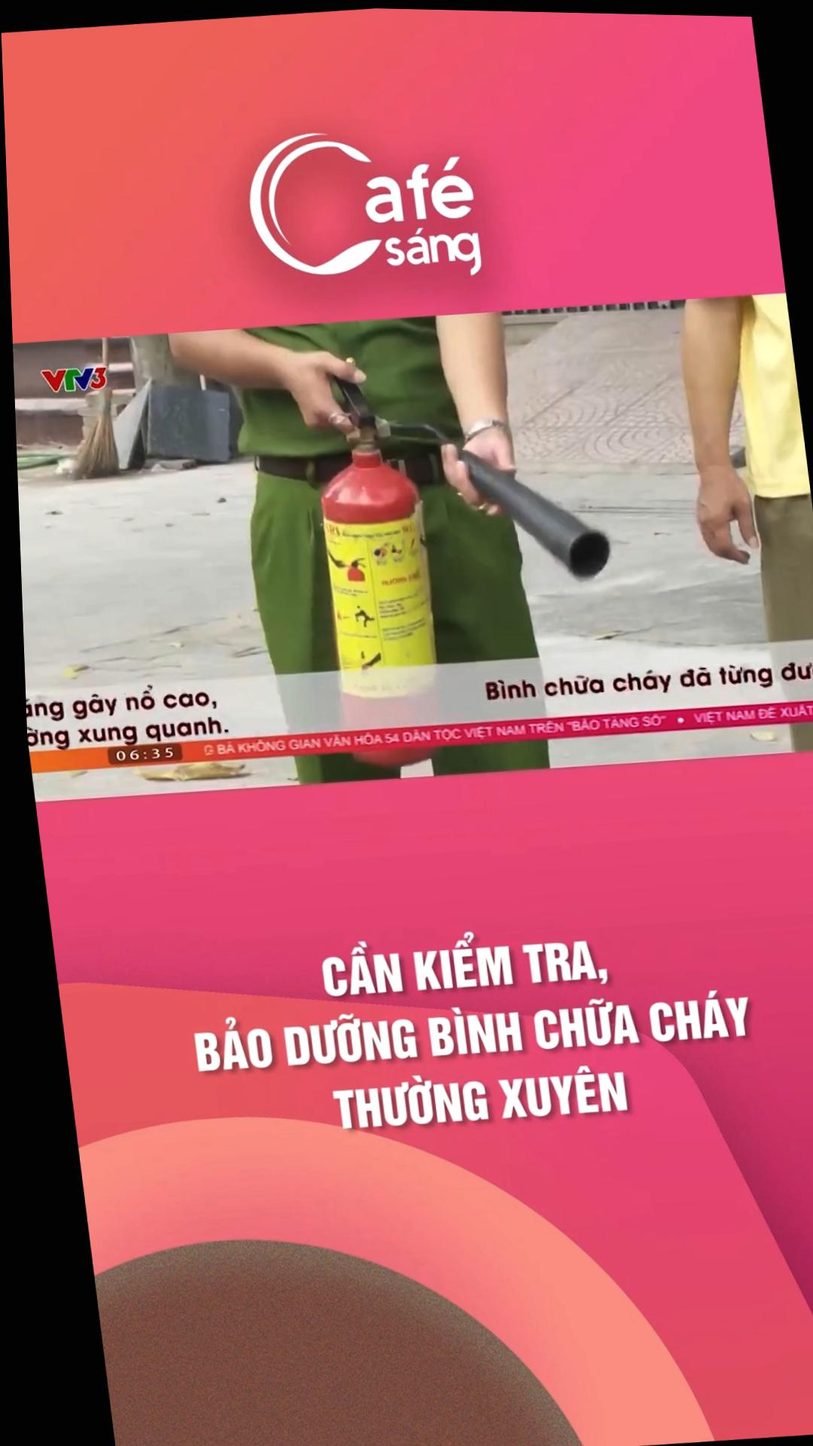FireExtinguisher: (290, 441, 459, 780)
